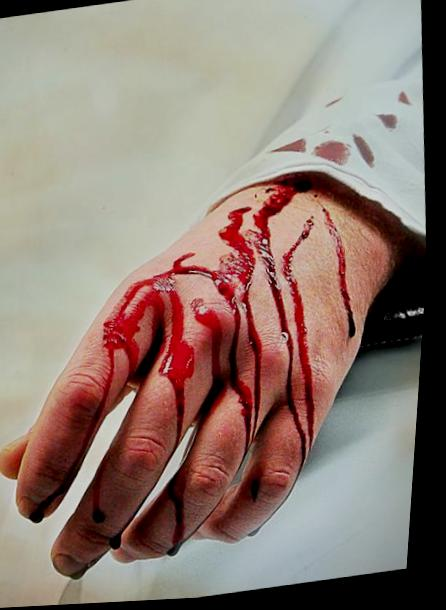Fire: (28, 181, 385, 579), (259, 71, 427, 183)
